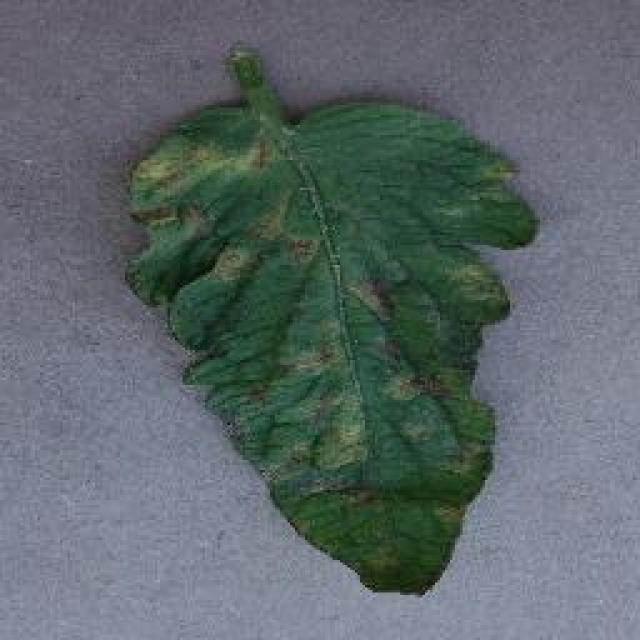leaf mold: (125, 53, 538, 592)
